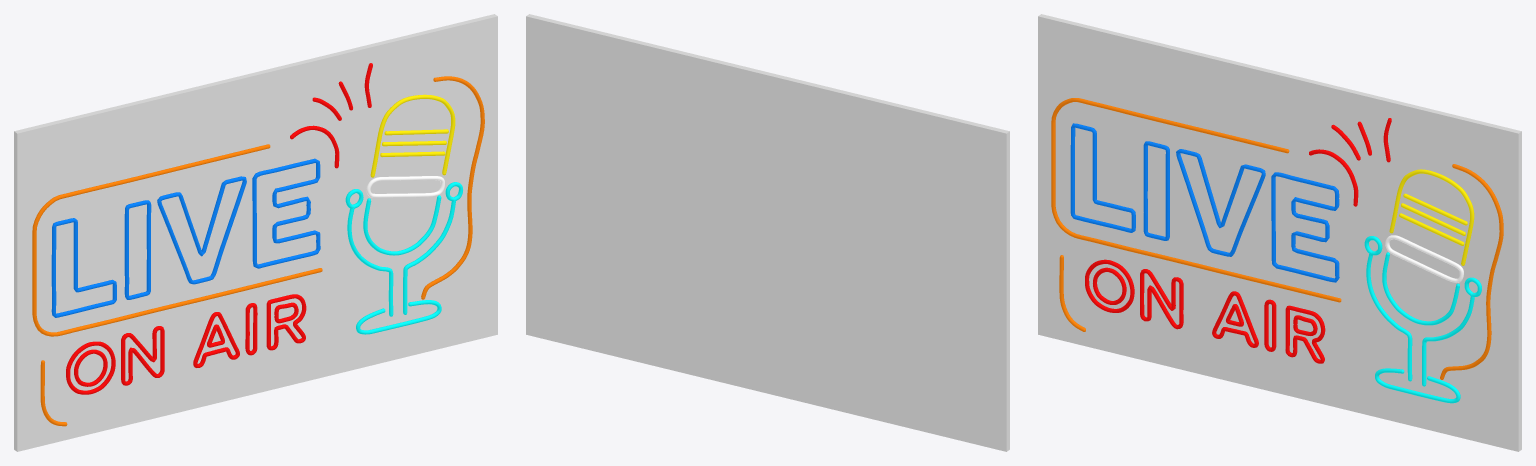
The model's file is オンエア.glb.
3 views of the same model, side by side, from view 1: azimuth 30°, elevation 25°; view 2: azimuth 150°, elevation 25°; view 3: azimuth 330°, elevation 25° (orthographic).
Bounding box in the file's own units: 600 × 380 × 11.4.
